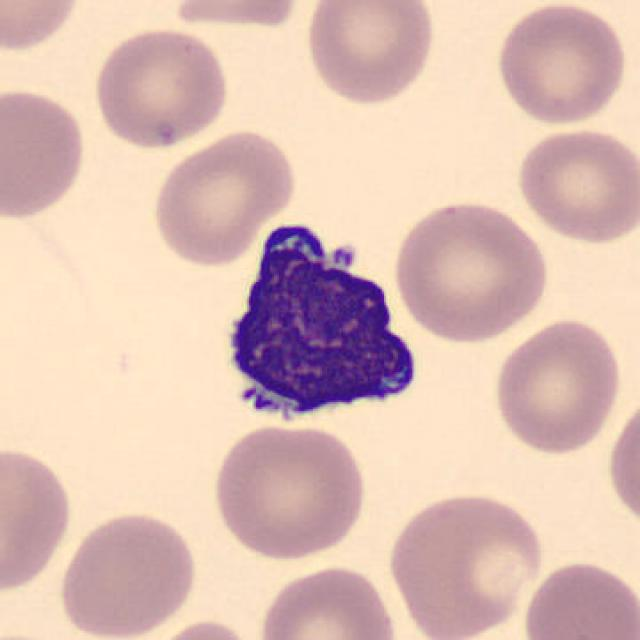Lymphocyte: (206, 210, 430, 437)
RBC: (382, 488, 546, 638), (389, 196, 553, 346), (208, 422, 372, 562), (147, 125, 300, 268), (55, 506, 201, 640), (489, 314, 624, 456), (89, 23, 233, 152), (491, 0, 631, 129), (512, 123, 638, 245), (301, 0, 439, 108), (0, 83, 91, 222), (0, 441, 76, 596), (254, 560, 401, 640), (519, 555, 638, 640), (604, 390, 640, 534), (0, 0, 84, 55), (162, 0, 306, 32), (140, 615, 266, 640)
